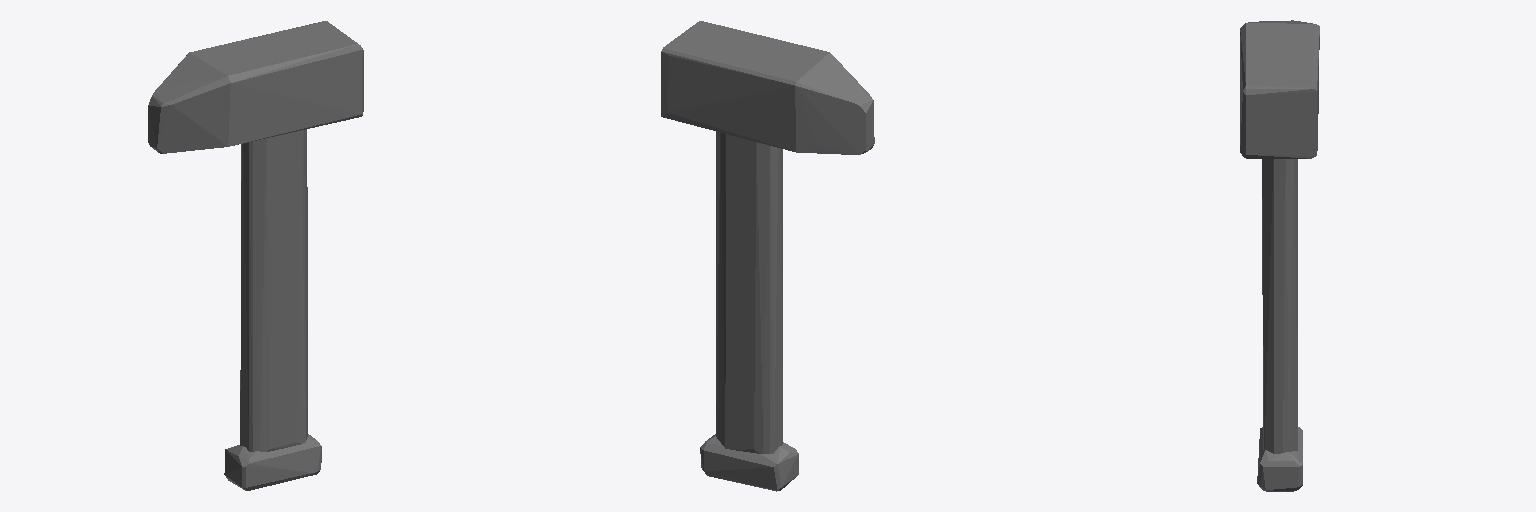
robot.urdf — hammer_023:
<?xml version="1.0" ?>
<robot name="hammer_023">
  <material name="color">
    <color rgba=".5 .5 .5 1"/>
  </material>

  <link name="base_link">
    <contact>
      <lateral_friction value="1.0"/>
      <rolling_friction value="0.001"/>
      <spinning_friction value="0.001"/>
      <inertia_scaling value="1.0"/>
    </contact>
    <inertial>
      <origin rpy="0 0 0" xyz="0.00929456 2.62815e-05 0.0296891"/>
       <mass value="0.1"/>
       <inertia ixx="1" ixy="0" ixz="0" iyy="1" iyz="0" izz="1"/>
    </inertial>

    <visual>
      <origin rpy="0 0 0" xyz="0 0 0"/>
      <geometry>
        <mesh filename="hammer_023_vhacd_0_of_3.obj" scale="1 1 1"/>
      </geometry>
      <material name="color"/>
    </visual>
    <visual>
      <origin rpy="0 0 0" xyz="0 0 0"/>
      <geometry>
        <mesh filename="hammer_023_vhacd_1_of_3.obj" scale="1 1 1"/>
      </geometry>
      <material name="color"/>
    </visual>
    <visual>
      <origin rpy="0 0 0" xyz="0 0 0"/>
      <geometry>
        <mesh filename="hammer_023_vhacd_2_of_3.obj" scale="1 1 1"/>
      </geometry>
      <material name="color"/>
    </visual>

    <collision>
      <origin rpy="0 0 0" xyz="0 0 0"/>
      <geometry>
        <mesh filename="hammer_023_vhacd_0_of_3.obj" scale="1 1 1"/>
      </geometry>
    </collision>
    <collision>
      <origin rpy="0 0 0" xyz="0 0 0"/>
      <geometry>
        <mesh filename="hammer_023_vhacd_1_of_3.obj" scale="1 1 1"/>
      </geometry>
    </collision>
    <collision>
      <origin rpy="0 0 0" xyz="0 0 0"/>
      <geometry>
        <mesh filename="hammer_023_vhacd_2_of_3.obj" scale="1 1 1"/>
      </geometry>
    </collision>

  </link>
</robot>

--- What the picture shows (computed from the rendered views, not written in the file) ---
3 views of the same robot in one strip: view 1: azimuth 30°, elevation 25°; view 2: azimuth 150°, elevation 25°; view 3: azimuth 270°, elevation 25° (orthographic).
Model hammer_023 with 1 links and 0 joints (none), rooted at base_link, posed all joints at 0.
Visible links, largest first — view 1: base_link; view 2: base_link; view 3: base_link.
Boxes of the visible links, box(x1,y1,x2,y2) form: base_link: box(148, 21, 363, 490); base_link: box(661, 21, 874, 491); base_link: box(1240, 20, 1319, 491).
Size in the robot's own frame: 0.1002 by 0.0364 by 0.212 metres.
3 mesh visuals loaded from 3 distinct referenced files (3 OBJ).